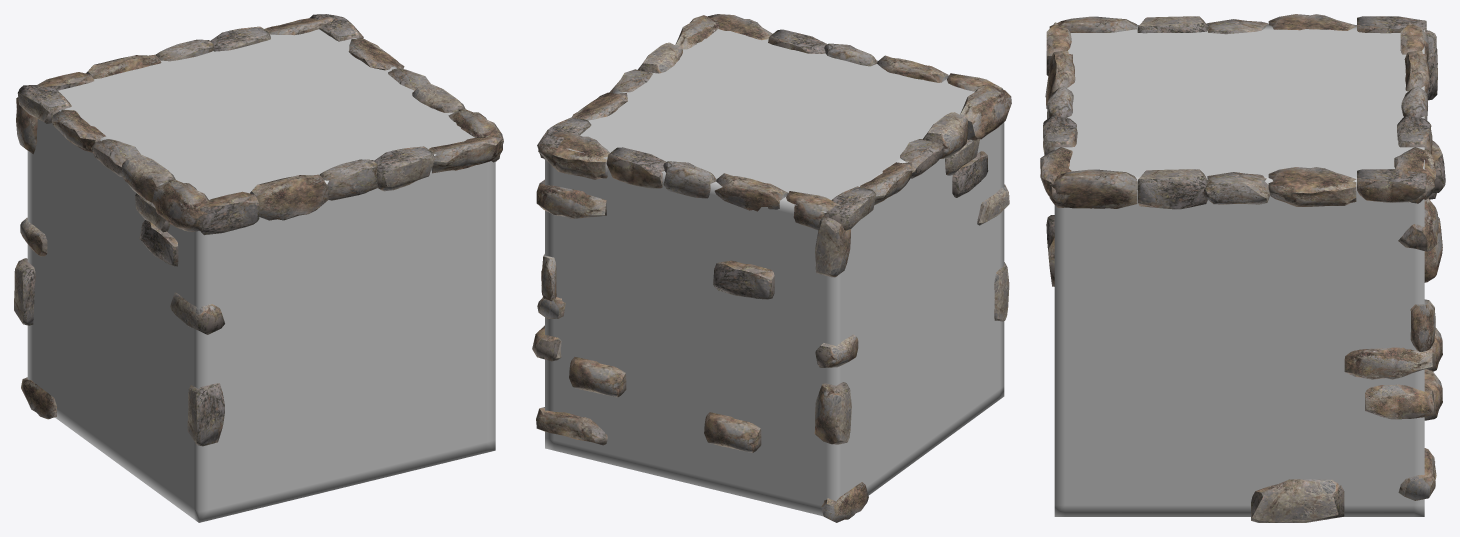
Rendered from SM_StairsBox03.FBX.
The picture shows the model from 3 angles, left to right: view 1: azimuth 30°, elevation 25°; view 2: azimuth 150°, elevation 25°; view 3: azimuth 270°, elevation 25°; orthographic projection. The views are drawn at different scales.
Parts seen in each view (by area): view 1: SM_StairsBox03; view 2: SM_StairsBox03; view 3: SM_StairsBox03.
Boxes of the visible parts, left/top/right/bottom form: SM_StairsBox03: left=14, top=14, right=503, bottom=522; SM_StairsBox03: left=532, top=14, right=1011, bottom=522; SM_StairsBox03: left=1040, top=14, right=1445, bottom=522.
Size of the model in its own units: 327 by 329 by 313.
